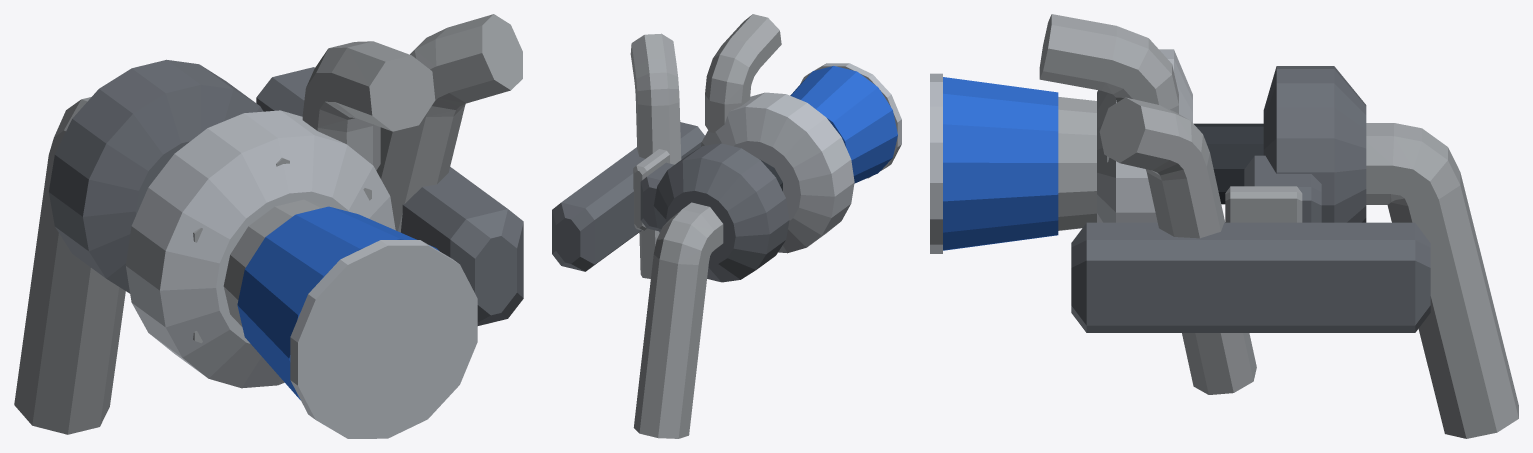
The model's file is hana_roadster.glb.
3 views of the same model, side by side, from view 1: azimuth 30°, elevation 25°; view 2: azimuth 150°, elevation 25°; view 3: azimuth 270°, elevation 25° (orthographic). The views are drawn at different scales.
Visible parts, largest first — view 1: model; view 2: model; view 3: model.
Boxes of the visible parts, box(x1,y1,x2,y2) form: model: box(14, 14, 523, 438); model: box(552, 14, 901, 438); model: box(930, 14, 1518, 438).
Bounding box in the file's own units: 0.2858 × 0.3801 × 0.4588.
2 materials, 1 textured.
